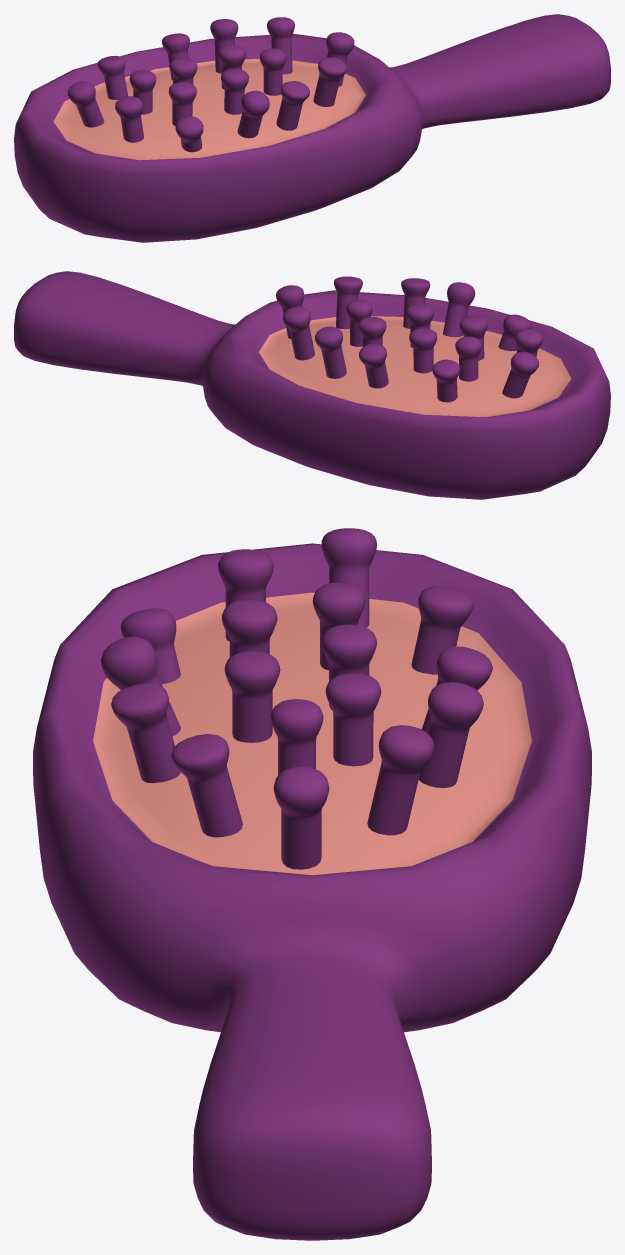
Rendered from brush.fbx.
The picture shows the model from 3 angles, top to bottom: view 1: azimuth 30°, elevation 25°; view 2: azimuth 150°, elevation 25°; view 3: azimuth 270°, elevation 25°; orthographic projection. The views are drawn at different scales.
Visible parts, largest first — view 1: Brush; view 2: Brush; view 3: Brush.
Part boxes in pixels (x1,y1,x2,y2): Brush: [14, 14, 610, 242]; Brush: [14, 271, 610, 499]; Brush: [33, 528, 591, 1240].
Bounding box in the file's own units: 288 × 67.69 × 123.
